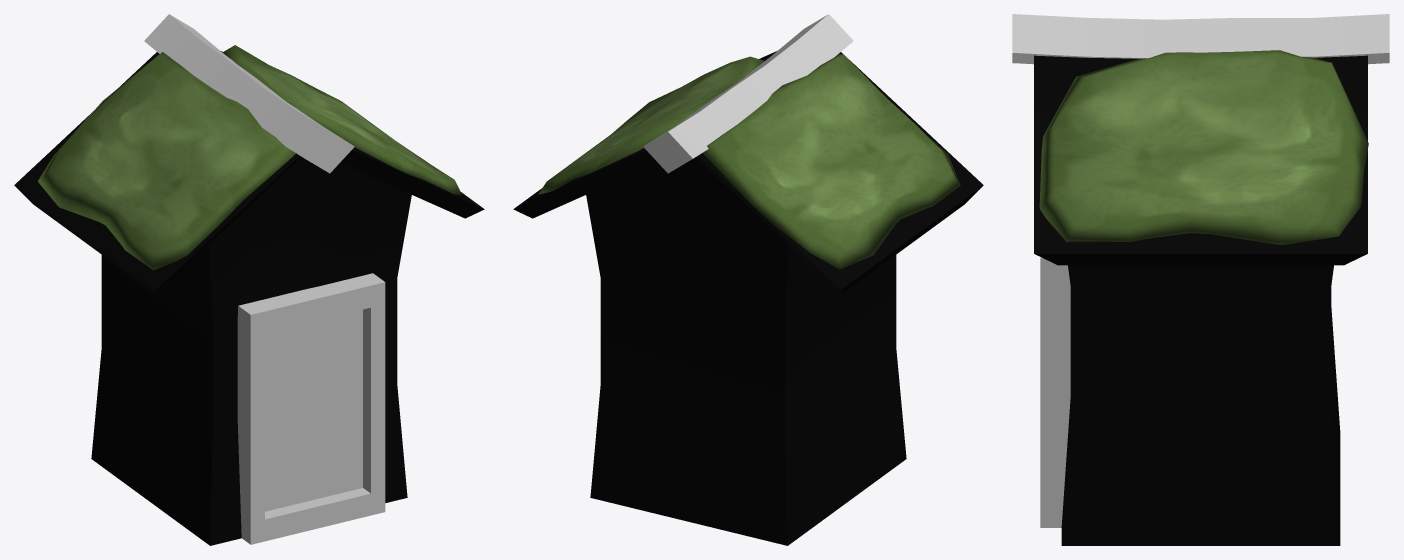
The model's file is SM_Outhouse.fbx.
The picture shows the model from 3 angles, left to right: view 1: azimuth 30°, elevation 25°; view 2: azimuth 150°, elevation 25°; view 3: azimuth 270°, elevation 25°; orthographic projection. The views are drawn at different scales.
Parts seen in each view (by area): view 1: Outhouse; view 2: Outhouse; view 3: Outhouse.
Boxes of the visible parts, x1,y1,x2,y2 form: Outhouse: (14, 14, 484, 545); Outhouse: (513, 14, 983, 545); Outhouse: (1012, 14, 1389, 545).
Size of the model in its own units: 8.65 by 10.21 by 7.34.
